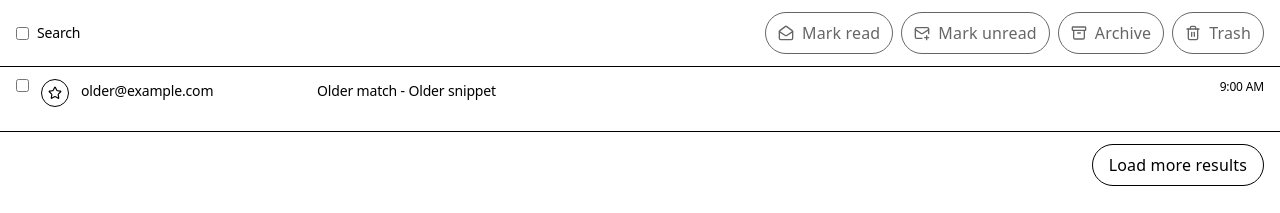
Scenario: MessageListLoader › loads search results from the Gmail search endpoint and appends newer-first pages
The width and height of the screenshot is (1280, 213).
Expected: the text "Older match" is shown, left=317, top=81, right=397, bottom=100
What coordinates should you click on to do the following:
click the button "Load more results"
I would click on:
 (1178, 165)
Its box is left=1092, top=144, right=1264, bottom=186.
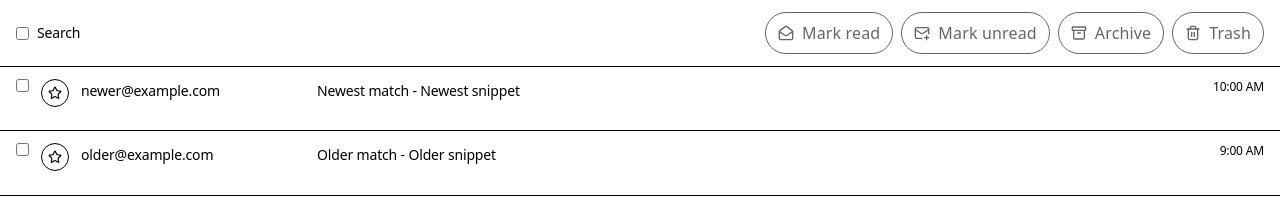
Expected: the text "Newest match" is shown, left=317, top=81, right=409, bottom=100
Expected: the button "Load more results" is gone
